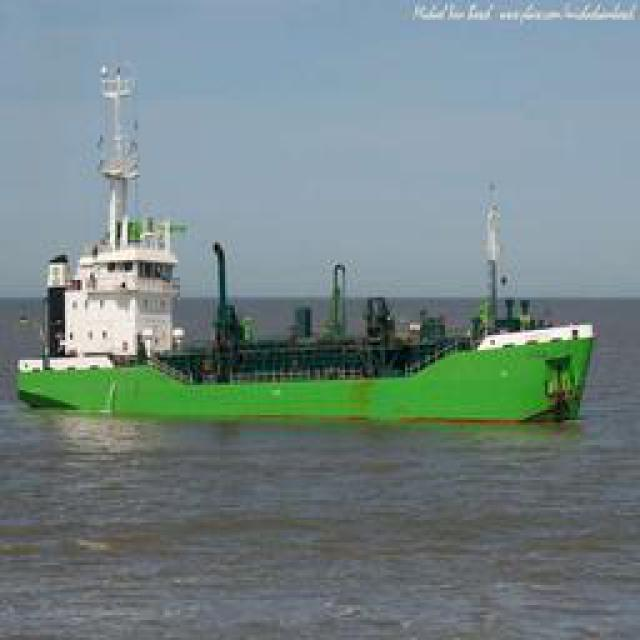Ship: (36, 313, 591, 431)
